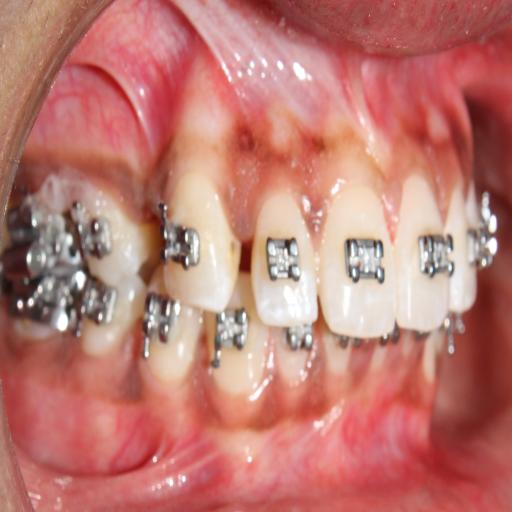correct_brace: (161, 202, 204, 278), (414, 220, 457, 292), (340, 231, 386, 298), (262, 229, 302, 288)
incorrect_brace: (250, 182, 318, 328)
